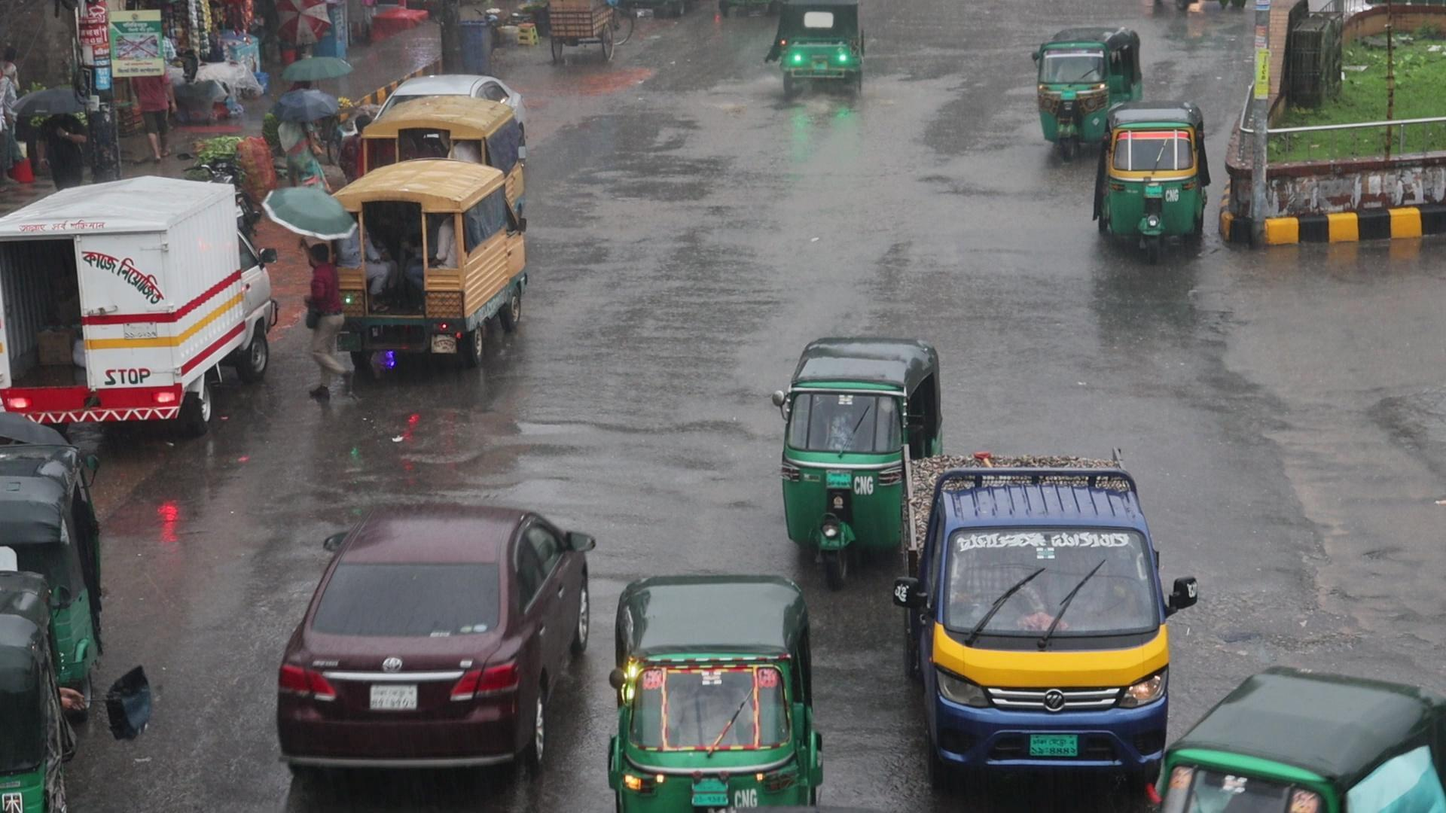Car: (272, 495, 597, 779)
Truck: (900, 442, 1200, 766), (311, 157, 526, 370)
